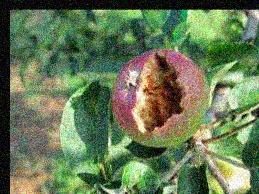rotten apple: (112, 47, 216, 146)
